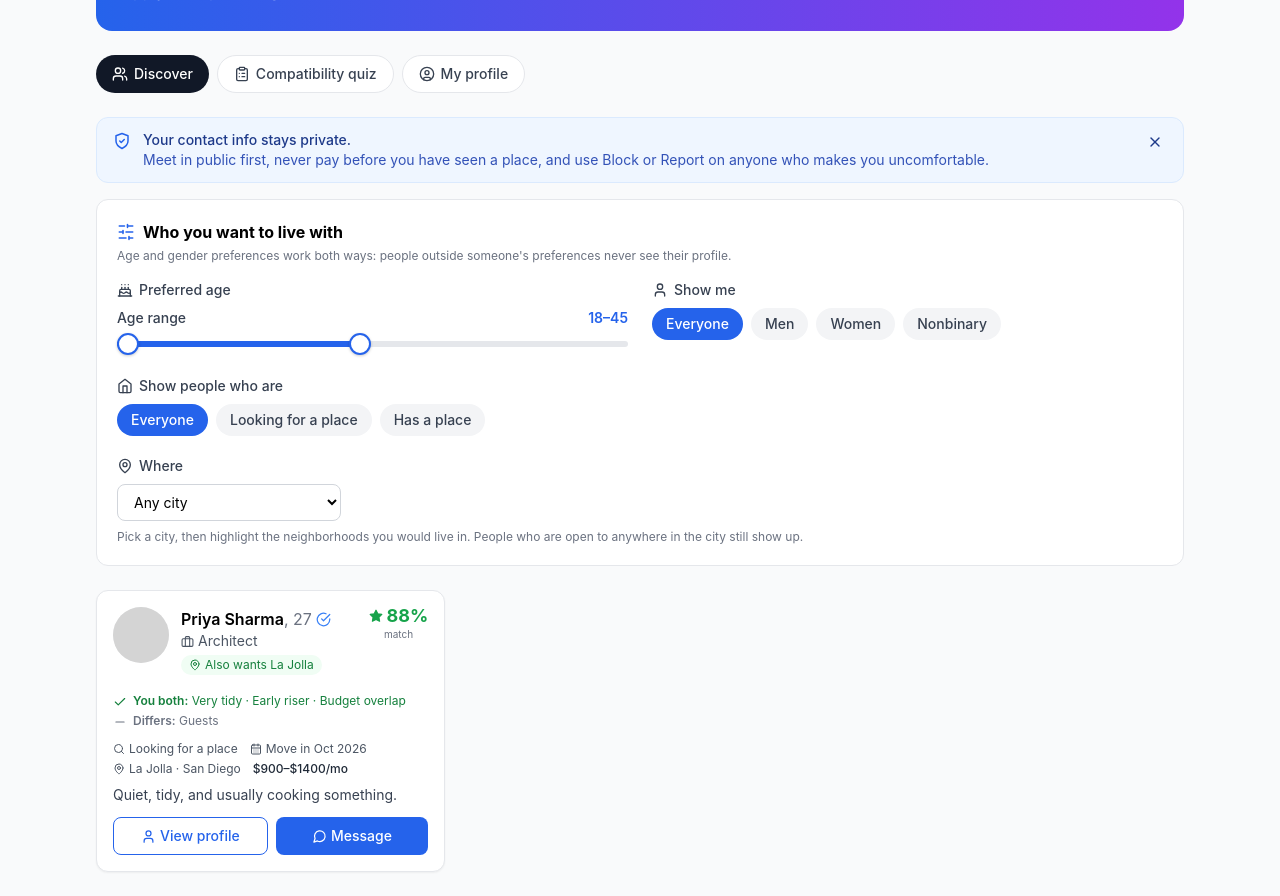
HousematesHub › lets you block a real profile with a two-step confirm
The image size is (1280, 896).
(page scrolled)
Expected: the heading "Priya Sharma, 27" is shown, [181,607,312,631]
Click the button named "view profile".
click(141, 635)  # box [96,590,445,872]
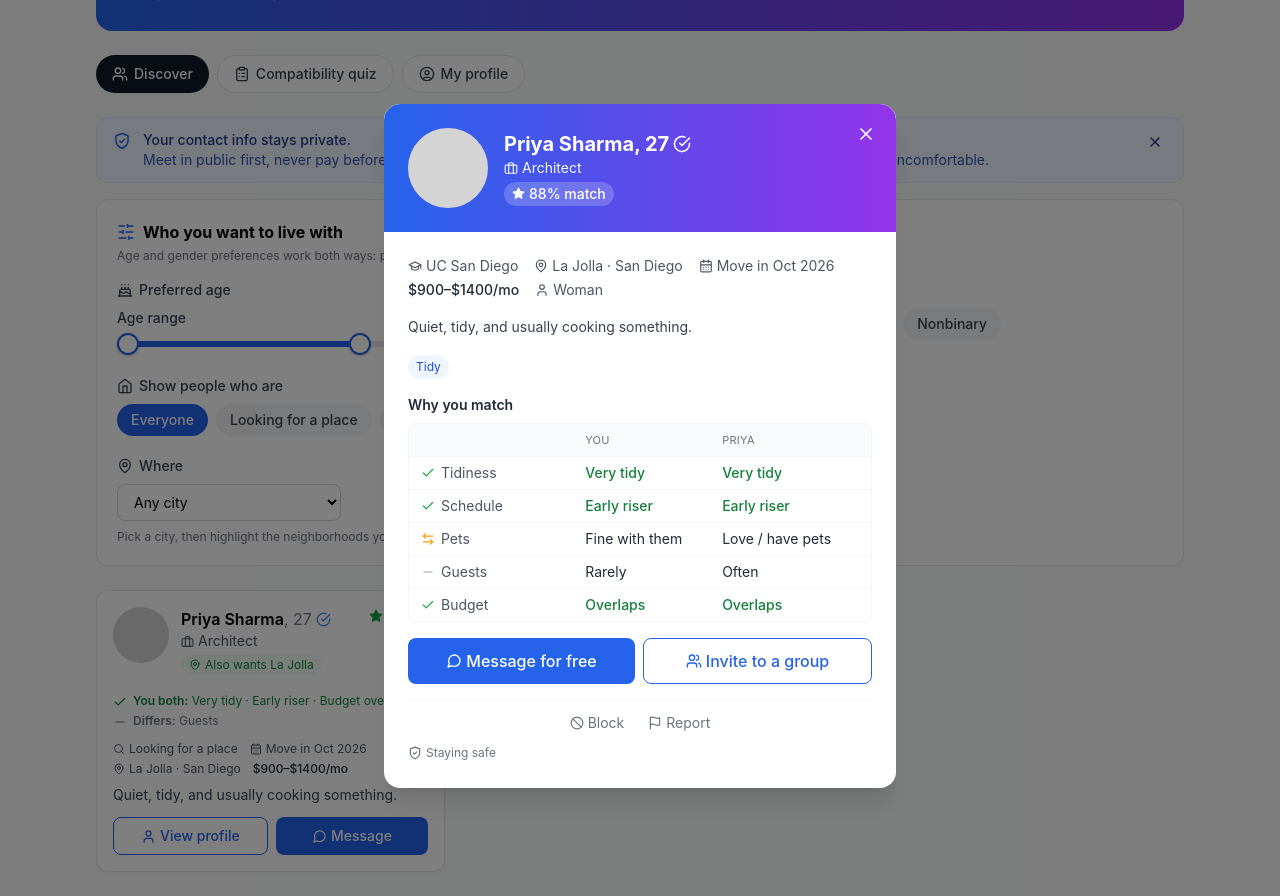
Click the button "Block".
click(597, 723)  # box [570,713,624,733]
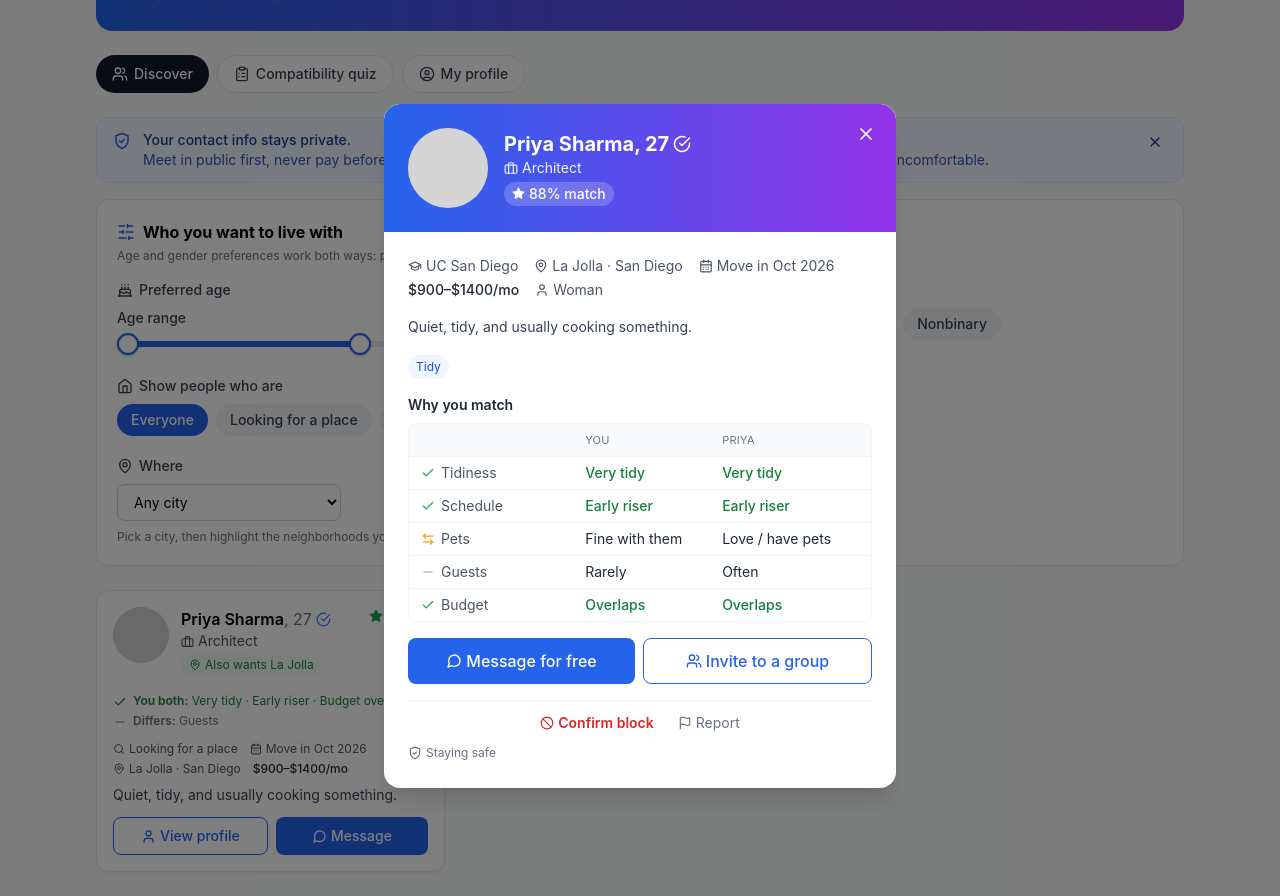
Click the button "Confirm block".
click(597, 723)  # box [540,713,654,733]
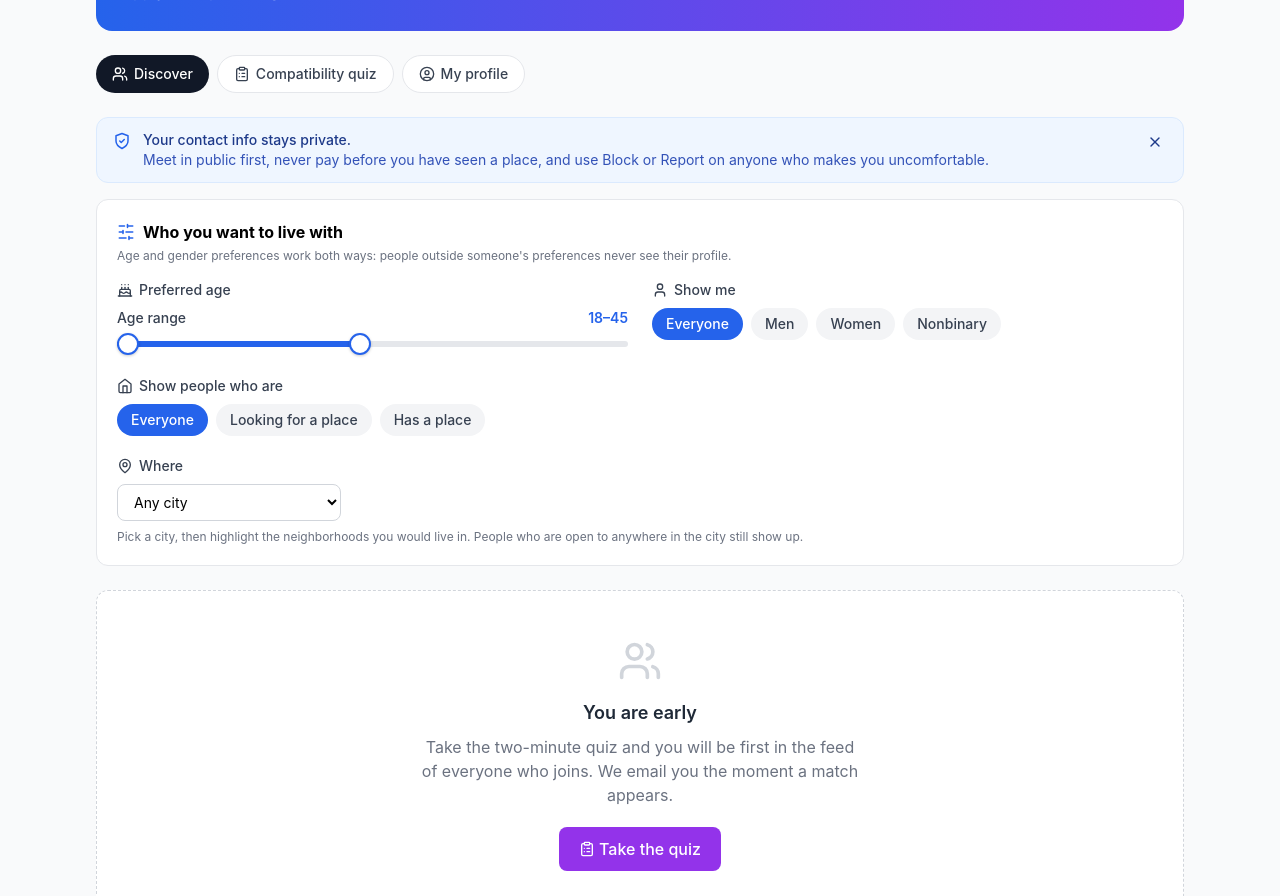
Expected: the button "Priya Sharma" is gone
